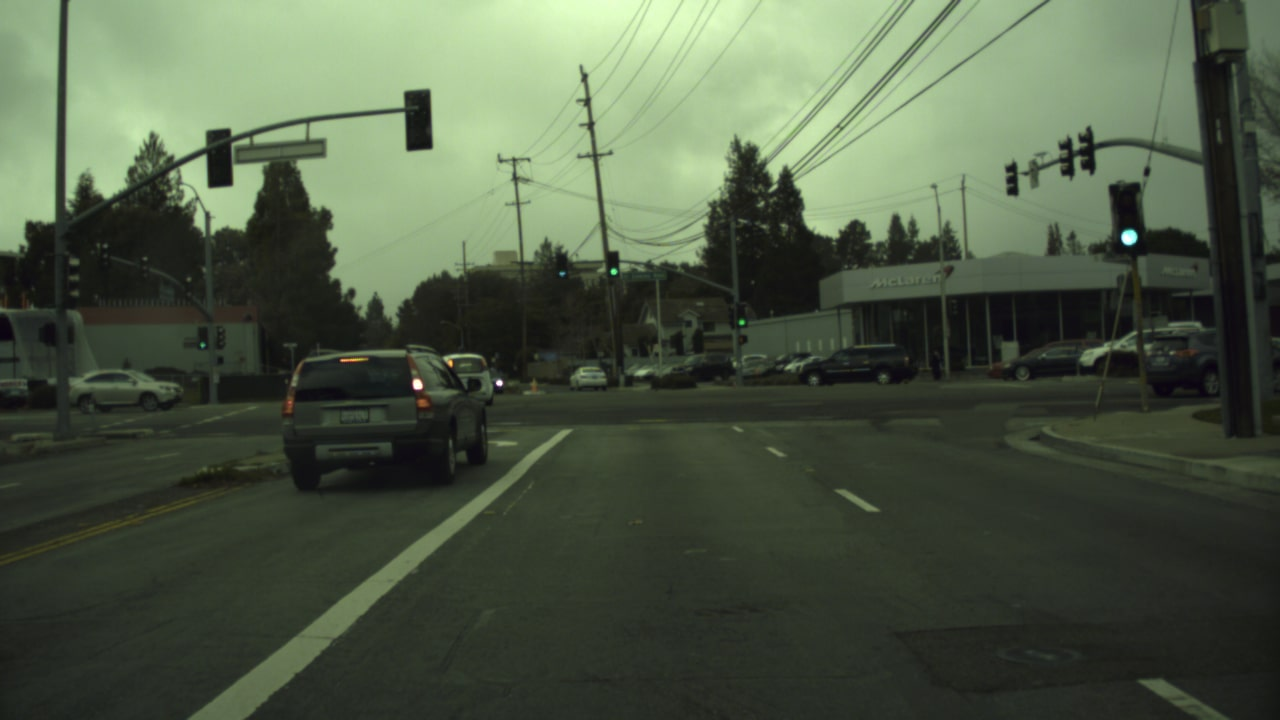signal: (1111, 185, 1146, 257), (734, 307, 752, 333), (608, 250, 623, 281), (194, 323, 208, 353), (556, 254, 569, 283)
